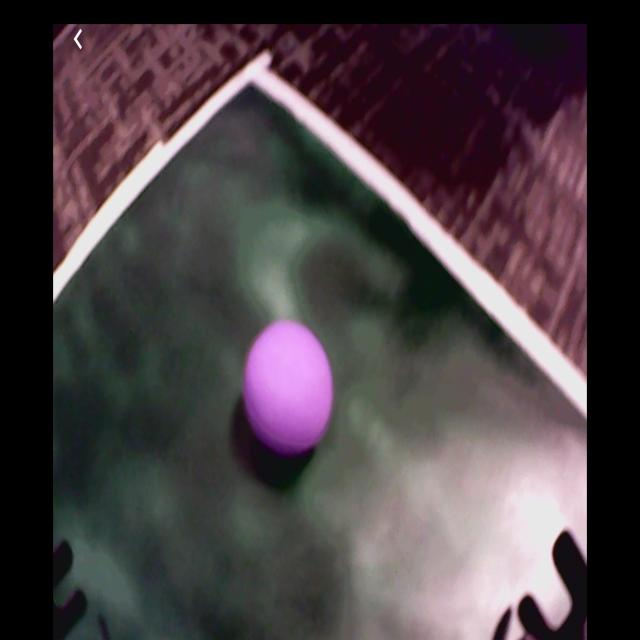ball: (242, 324, 333, 456)
